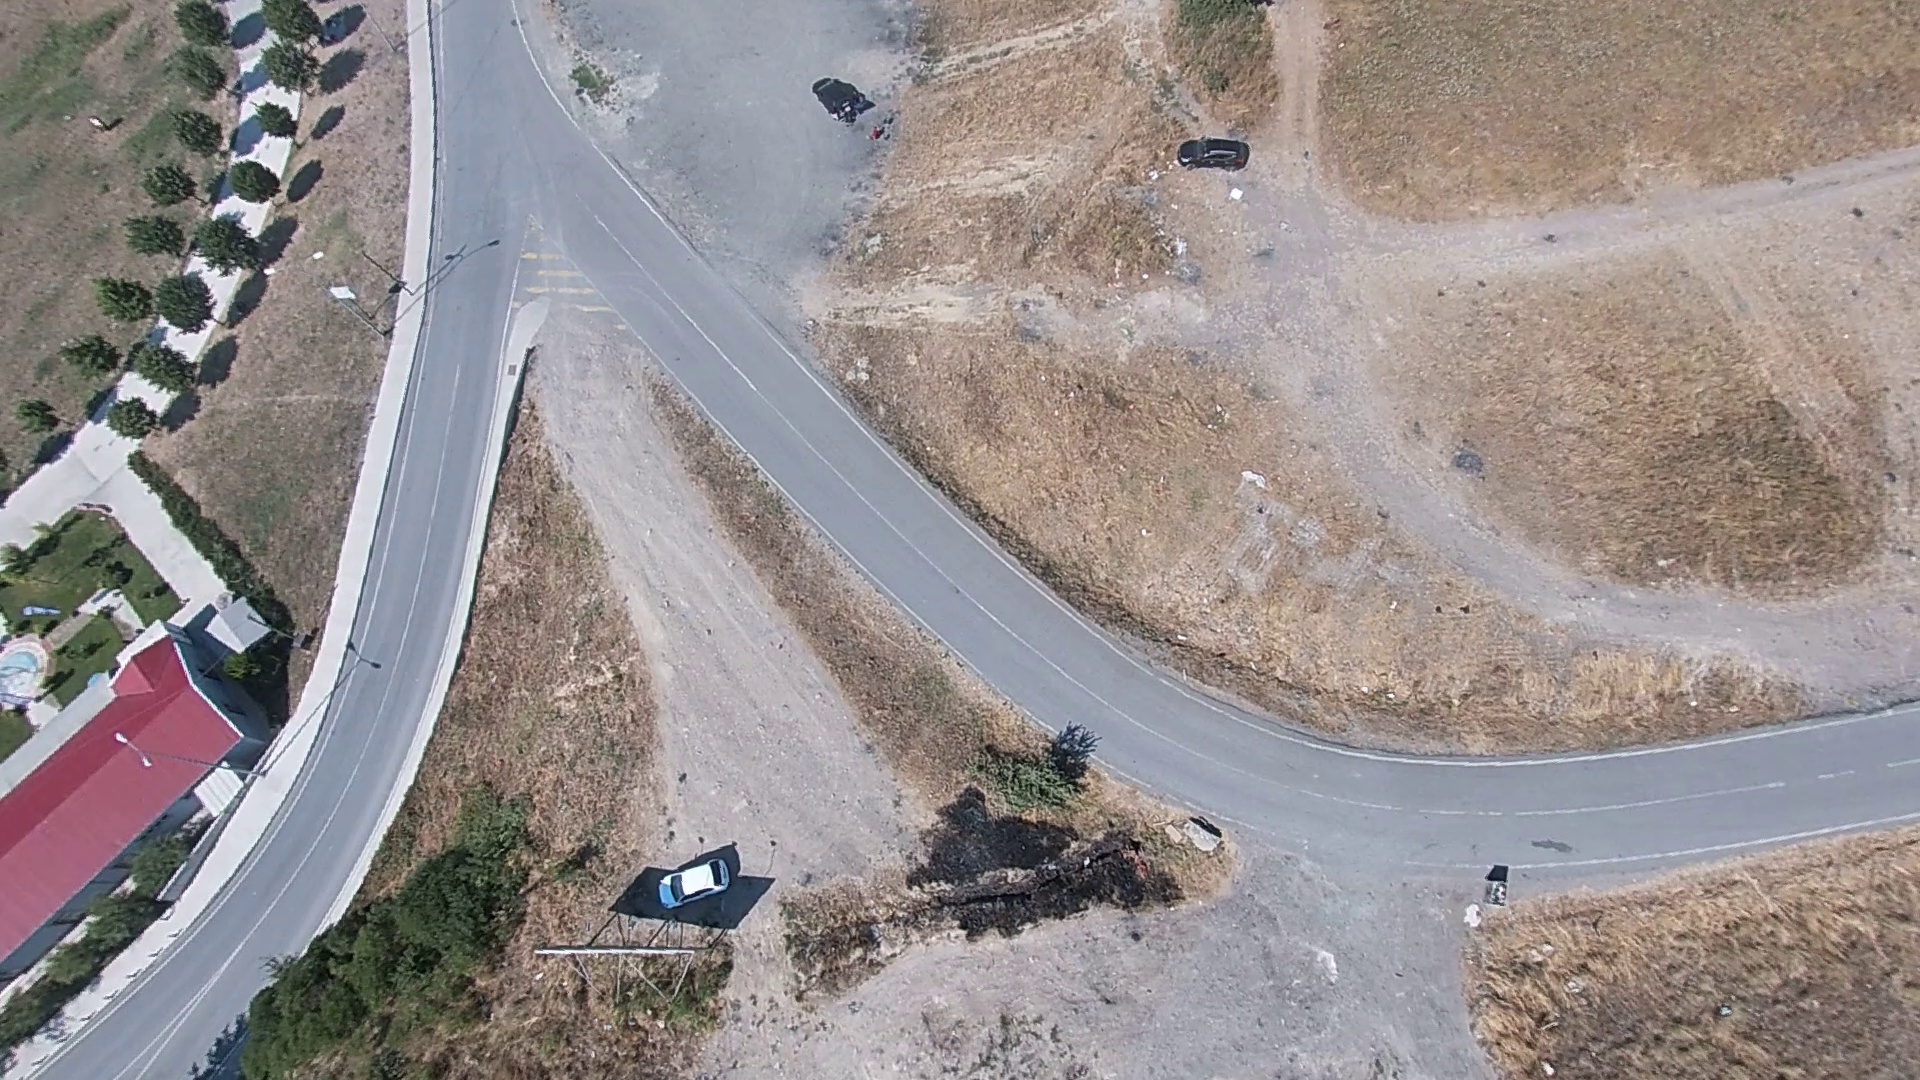araba: (651, 849, 735, 909), (1180, 136, 1247, 169)
